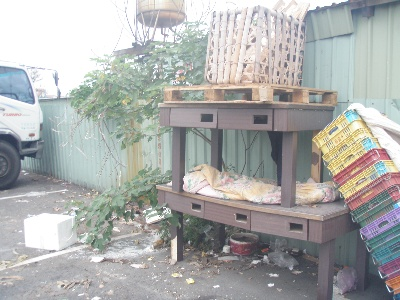bowl: (229, 232, 261, 255)
plastic_bag: (182, 165, 338, 204), (335, 266, 358, 294), (267, 250, 299, 268)
styrofoam: (24, 212, 76, 251)
water_tower: (136, 1, 187, 42)
